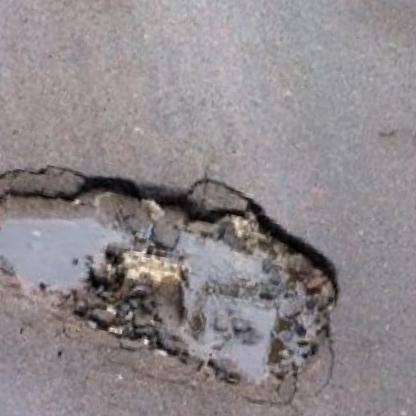pothole: (0, 122, 355, 416)
